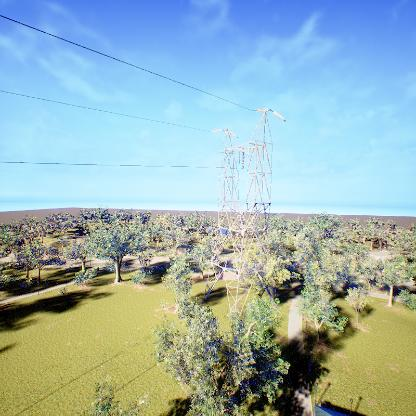tower: (202, 107, 285, 315)
